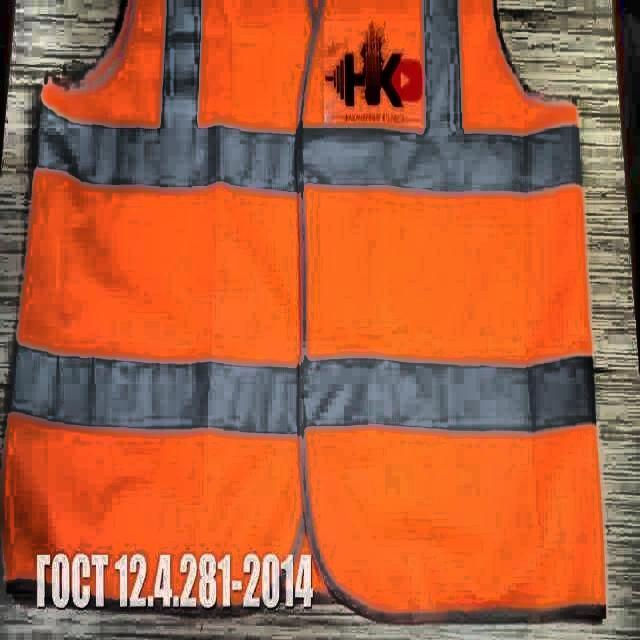safety_jacket: (0, 1, 609, 628)
